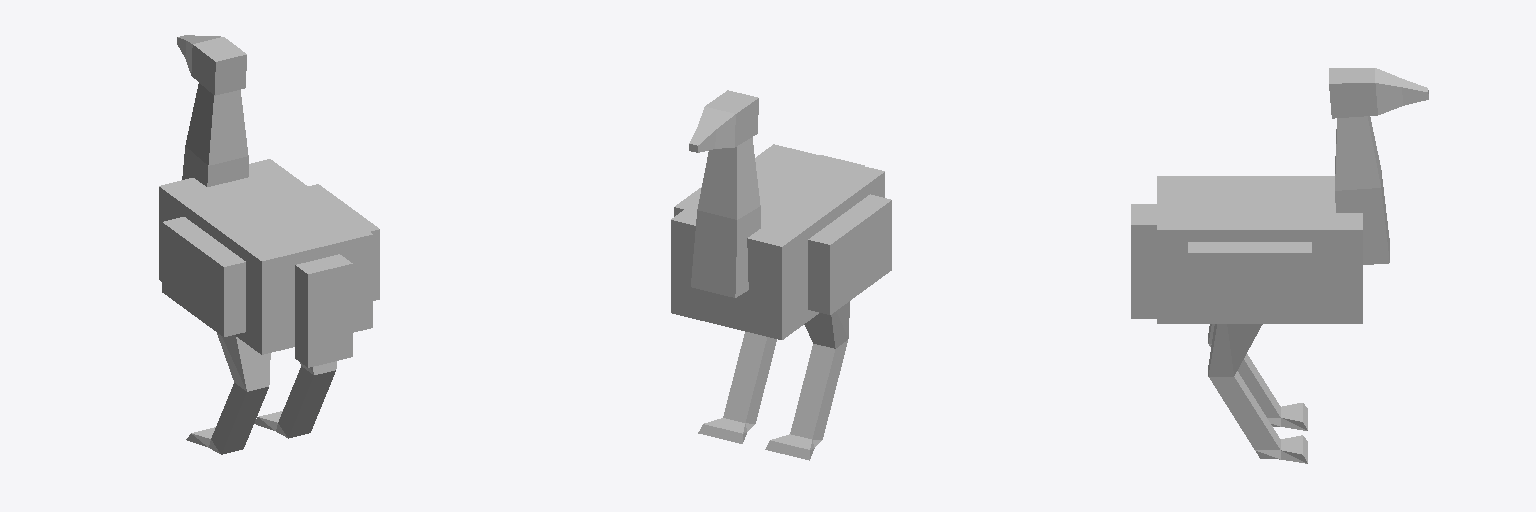
File: Ostrich_000060.obj
3 renders of one model, left to right at view 1: azimuth 30°, elevation 25°; view 2: azimuth 150°, elevation 25°; view 3: azimuth 270°, elevation 25°, orthographic.
Visible parts, largest first — view 1: Cube_Cube.001; view 2: Cube_Cube.001; view 3: Cube_Cube.001.
Boxes of the visible parts, x1,y1,x2,y2 form: Cube_Cube.001: [159, 35, 379, 454]; Cube_Cube.001: [671, 90, 891, 460]; Cube_Cube.001: [1131, 68, 1428, 463].
Size of the model in its own units: 0.7 by 1.55 by 1.15.